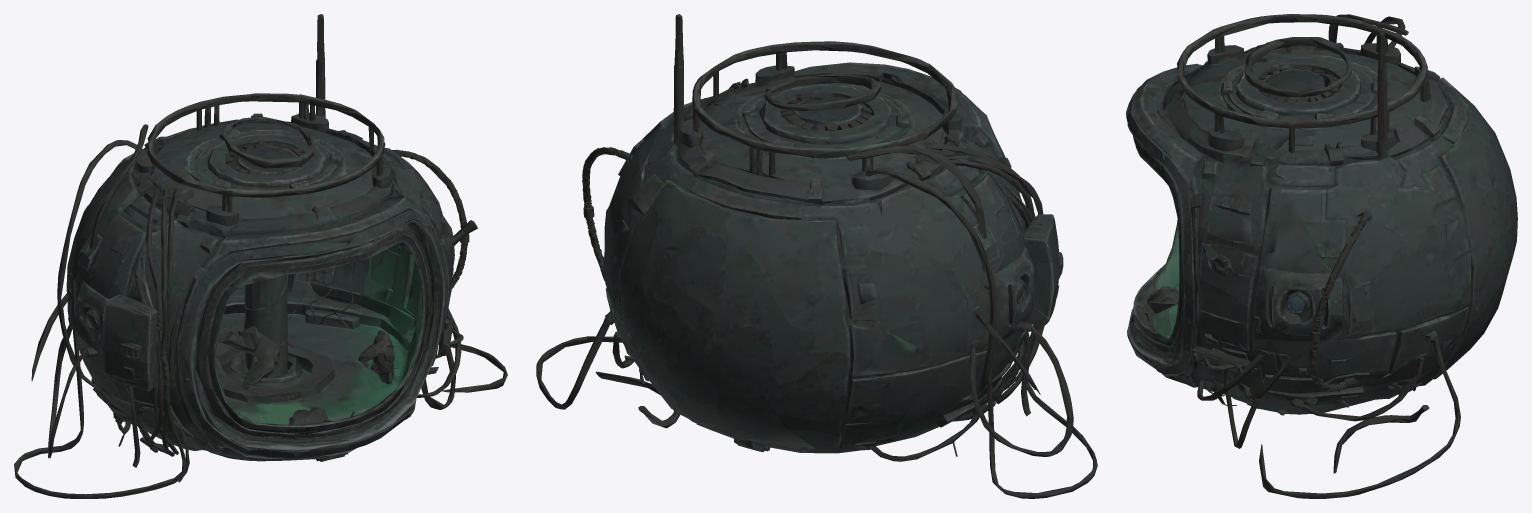
The model's file is mx_map_bio_lab.glb.
3 renders of one model, left to right at view 1: azimuth 30°, elevation 25°; view 2: azimuth 150°, elevation 25°; view 3: azimuth 270°, elevation 25°, orthographic. The views are drawn at different scales.
Bounding box in the file's own units: 1.9 × 1.39 × 1.25.
1 material, 1 textured.
